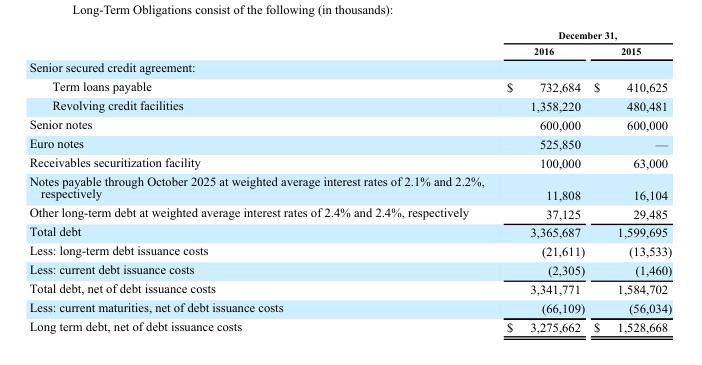table: (28, 28, 671, 333)
table column: (28, 28, 494, 333), (494, 28, 588, 333), (588, 28, 671, 333)
table column header: (28, 28, 671, 58)
table projected row header: (28, 58, 671, 76)
table row: (28, 171, 671, 203), (28, 76, 671, 95), (28, 95, 671, 114), (28, 114, 671, 133), (28, 133, 671, 152), (28, 152, 671, 171), (28, 203, 671, 222), (28, 222, 671, 241), (28, 241, 671, 260), (28, 278, 671, 297), (28, 297, 671, 316), (28, 58, 671, 76), (28, 260, 671, 278), (28, 316, 671, 333), (28, 42, 671, 58), (28, 28, 671, 42)
table spanning cell: (494, 28, 671, 42)
